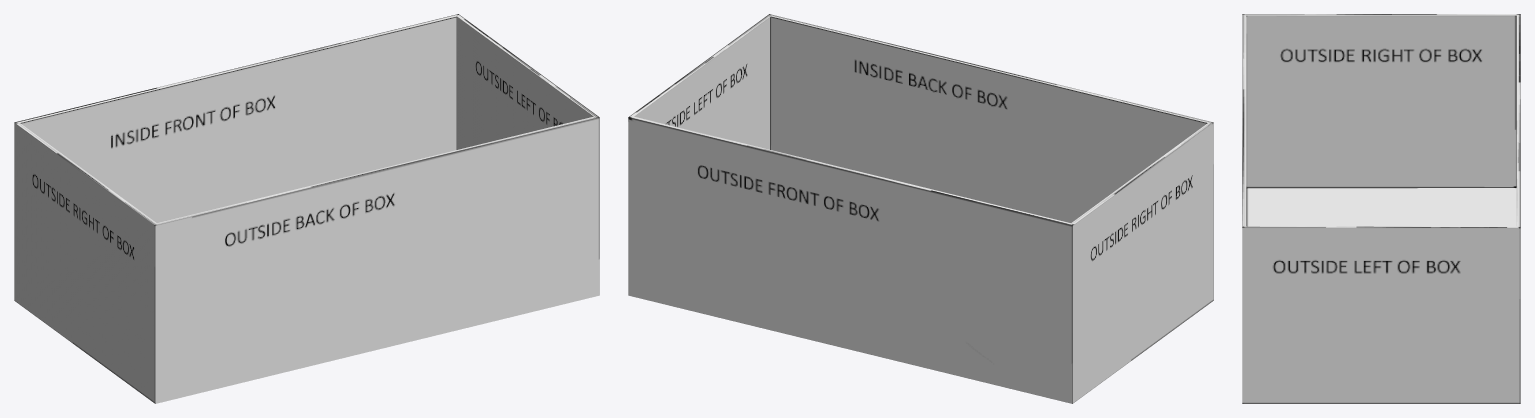
The model's file is box_bottom.obj.
3 views of the same model, side by side, from view 1: azimuth 30°, elevation 25°; view 2: azimuth 150°, elevation 25°; view 3: azimuth 270°, elevation 25° (orthographic).
Visible parts, largest first — view 1: box:1_Untitled.001; view 2: box:1_Untitled.001; view 3: box:1_Untitled.001.
Part boxes in pixels (x1,y1,x2,y2): box:1_Untitled.001: (14,14,599,403); box:1_Untitled.001: (628,14,1213,403); box:1_Untitled.001: (1242,14,1520,403).
Size of the model in its own units: 1.9 by 0.7303 by 1.05.
